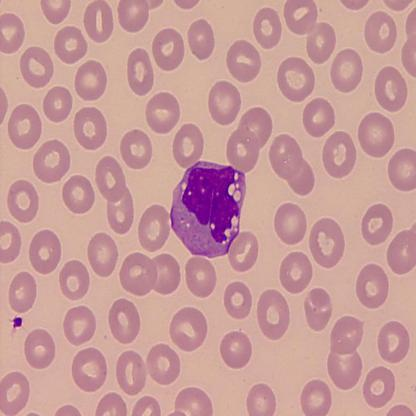Monocyte: (169, 159, 248, 258)
